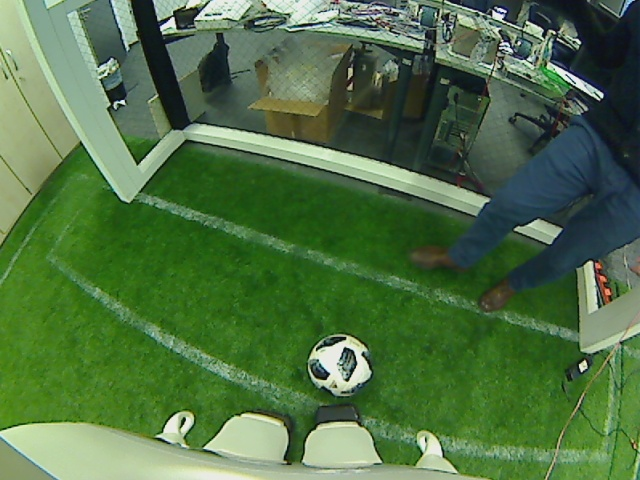ball: (304, 330, 374, 397)
